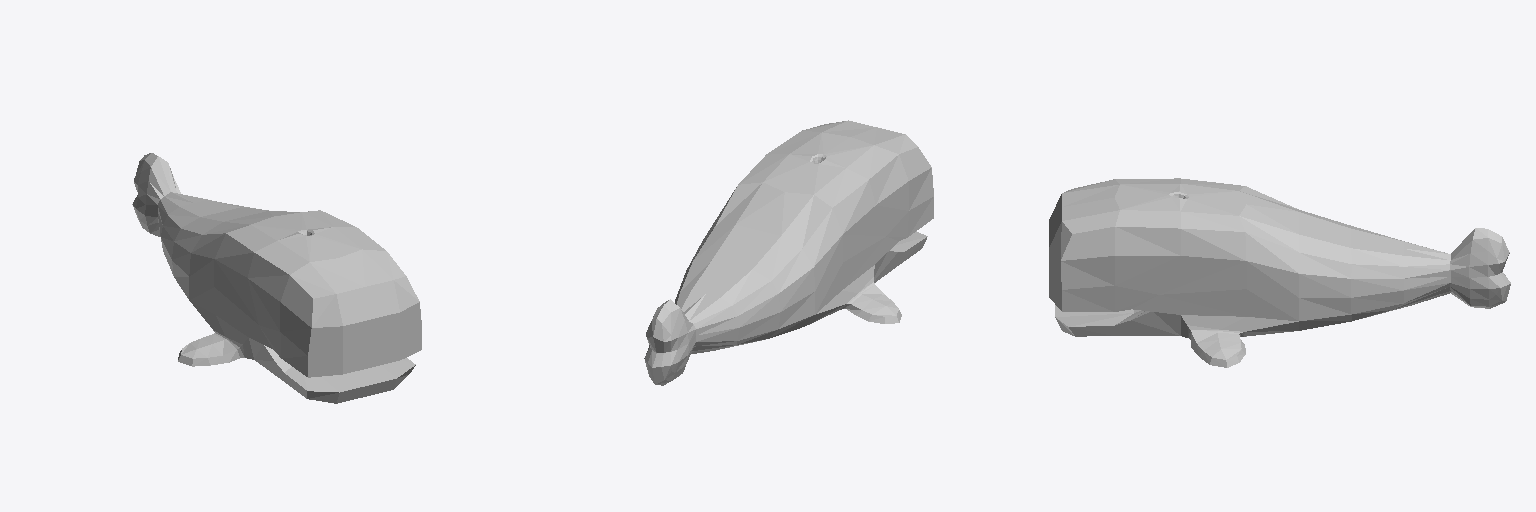
File: Steve.obj
3 renders of one model, left to right at view 1: azimuth 30°, elevation 25°; view 2: azimuth 150°, elevation 25°; view 3: azimuth 270°, elevation 25°, orthographic.
Parts seen in each view (by area): view 1: Steve_Cube; view 2: Steve_Cube; view 3: Steve_Cube.
Boxes of the visible parts, x1=… form: Steve_Cube: x1=132, y1=153, x2=421, y2=403; Steve_Cube: x1=644, y1=120, x2=933, y2=385; Steve_Cube: x1=1049, y1=178, x2=1510, y2=367.
Bounding box in the file's own units: 3.67 × 2.04 × 7.02.